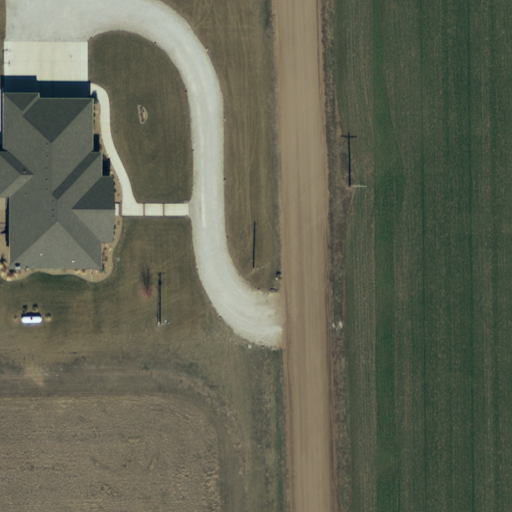DT: (343, 172, 373, 201), (245, 256, 273, 282), (152, 311, 175, 336)
